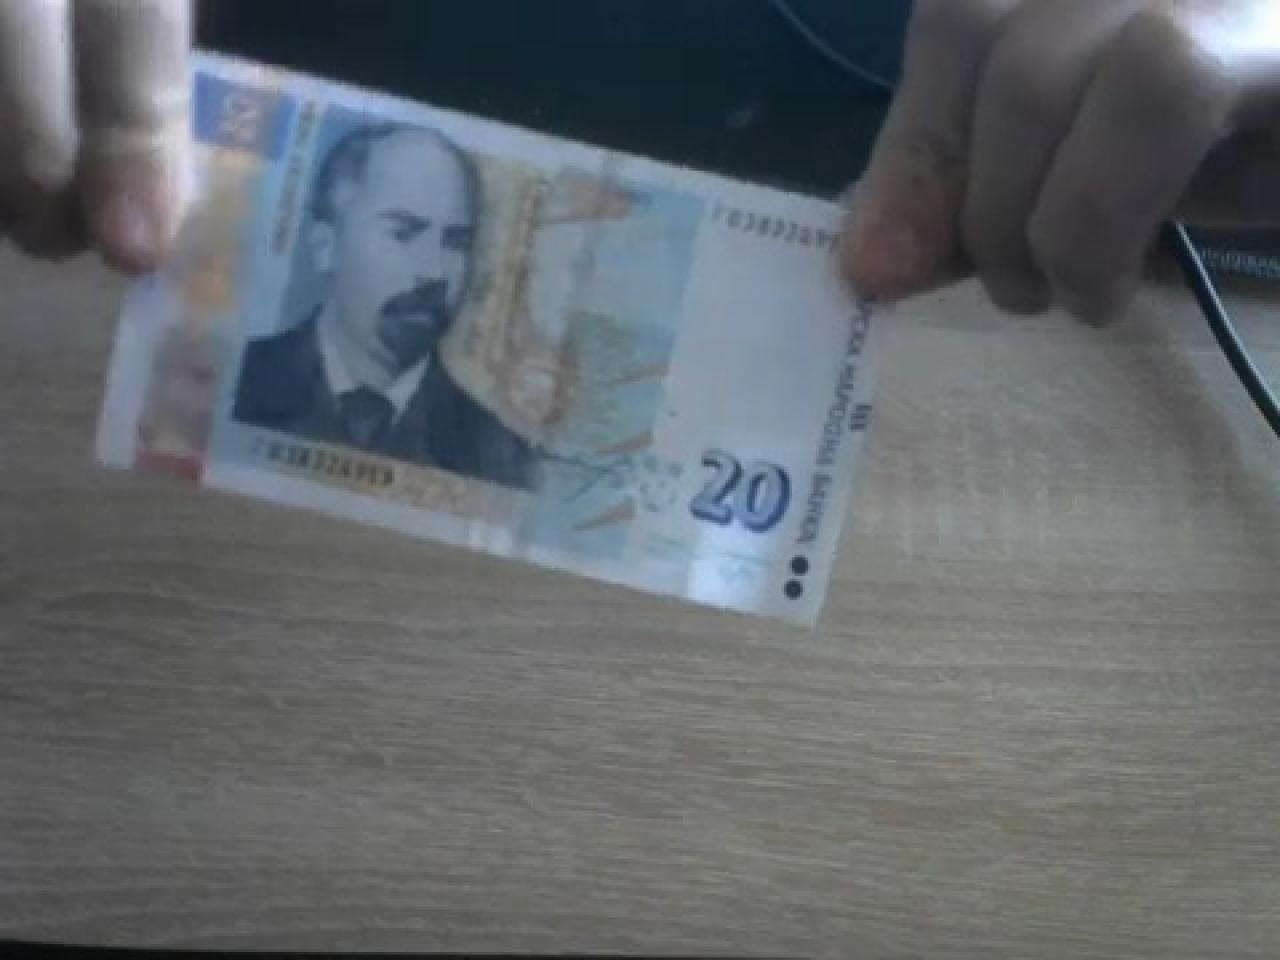20leva: (227, 118, 546, 493)
